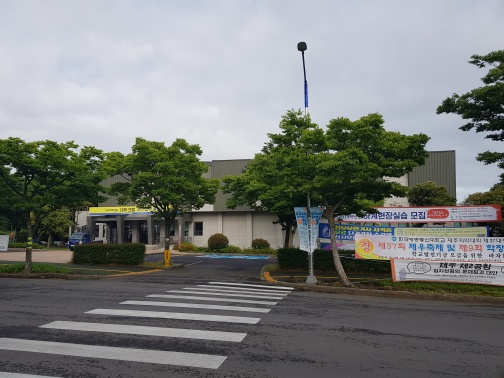Gym: (81, 160, 295, 252)
